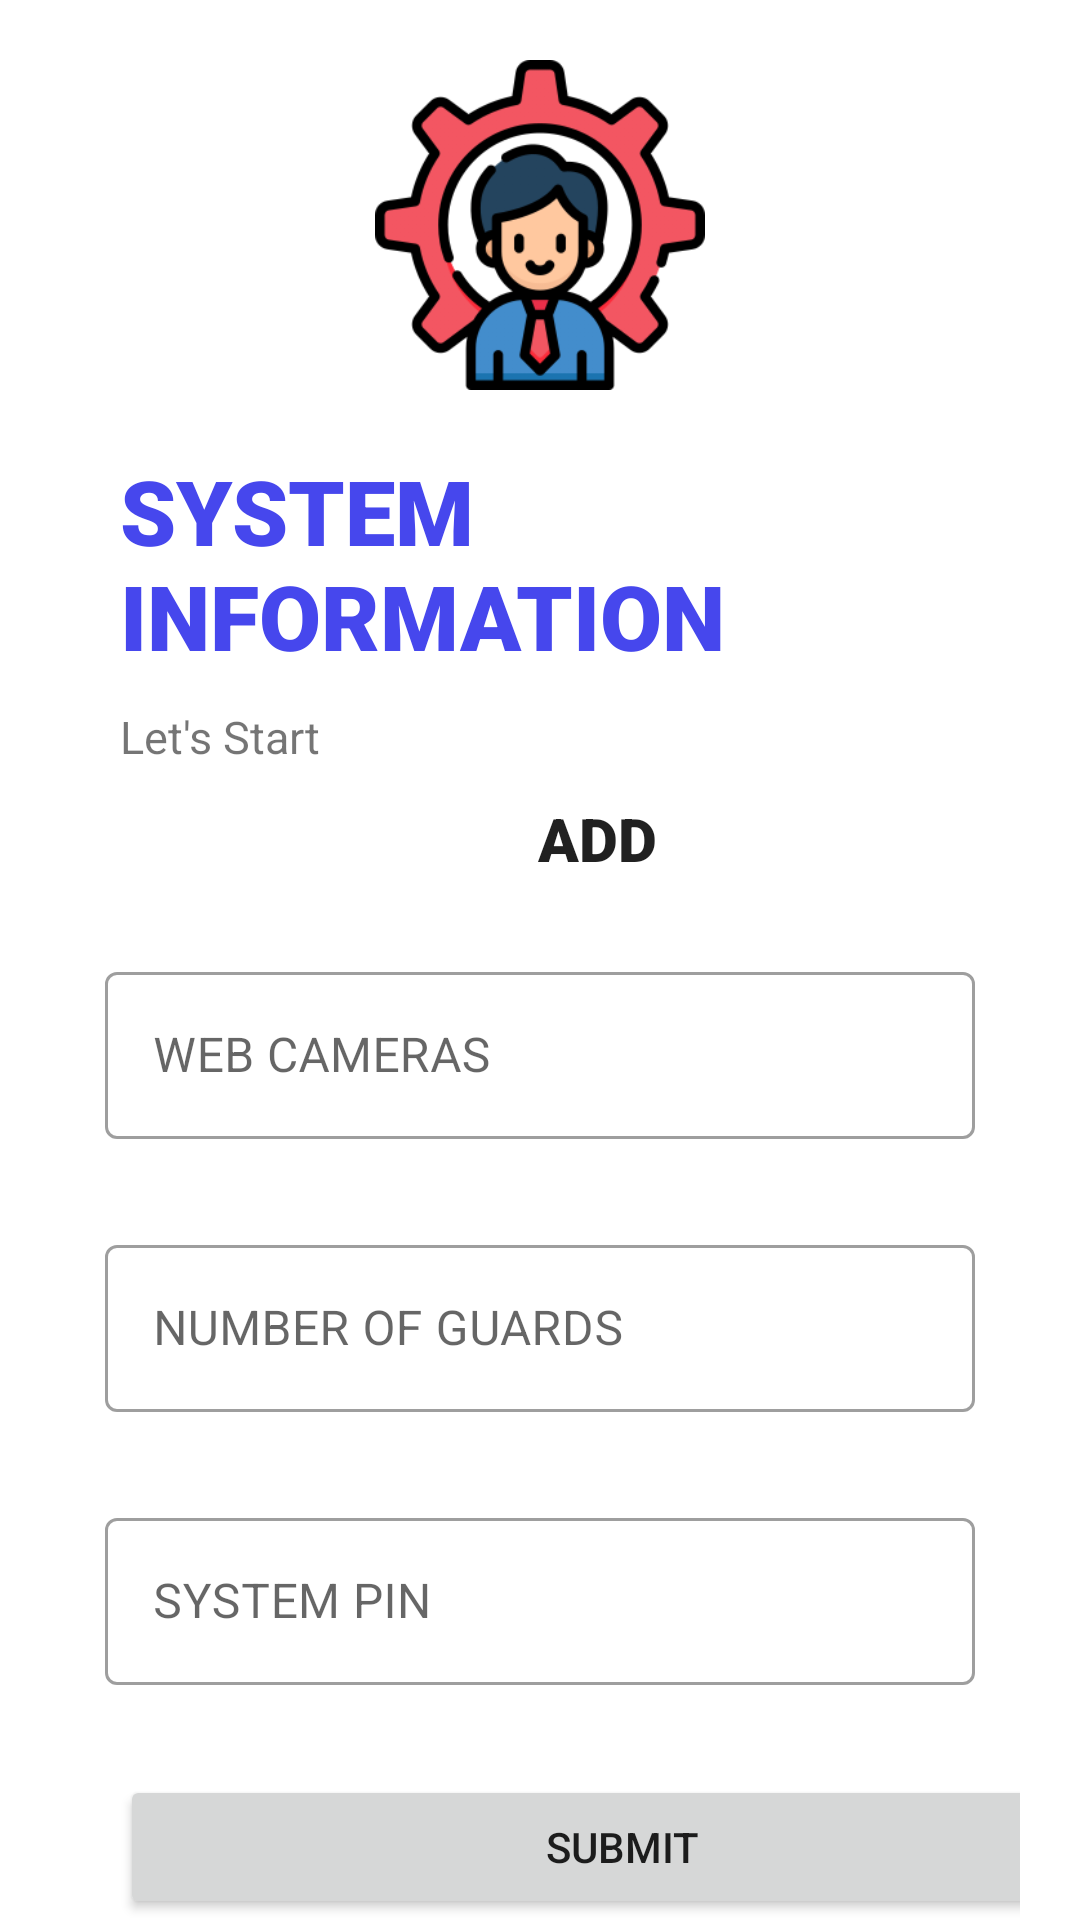

Where to tap for icons on this 1080 × 1920 app screen, as [x,y]:
manager: [540,225]
